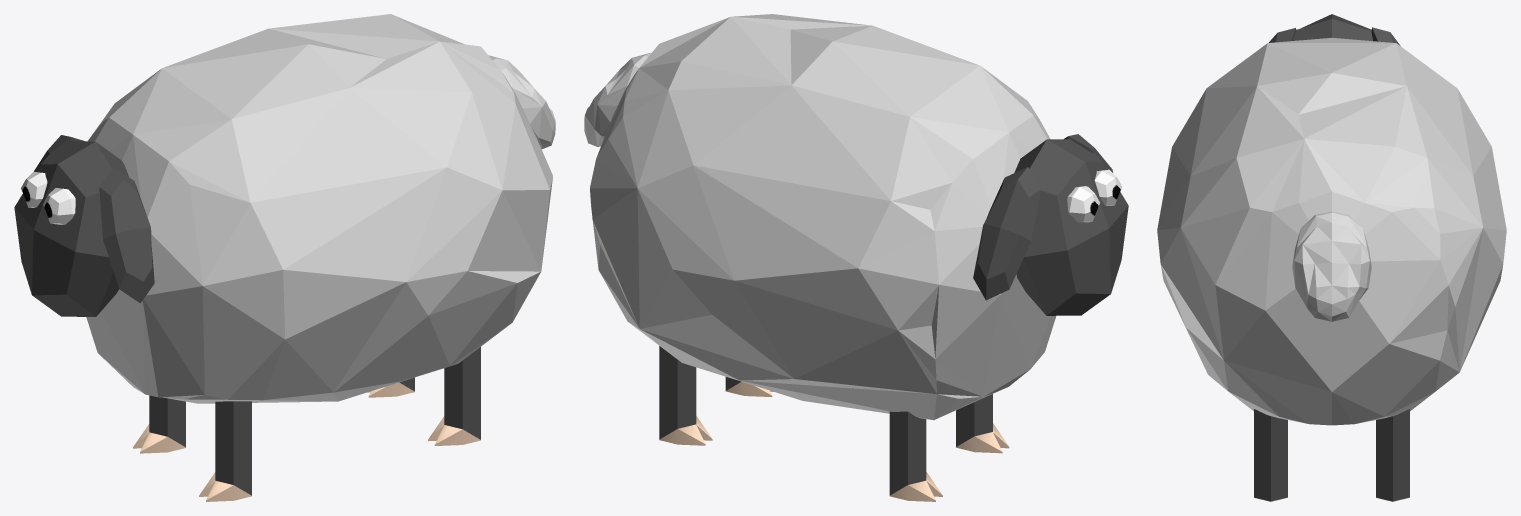
Rendered from sheep.glb.
3 views of the same model, side by side, from view 1: azimuth 30°, elevation 25°; view 2: azimuth 150°, elevation 25°; view 3: azimuth 270°, elevation 25° (orthographic). The views are drawn at different scales.
Parts seen in each view (by area): view 1: pCylinder12; view 2: pCylinder12; view 3: pCylinder12.
Boxes of the visible parts, x1,y1,x2,y2 form: pCylinder12: (14,14,555,501); pCylinder12: (584,14,1128,501); pCylinder12: (1157,14,1506,501).
Size of the model in its own units: 1.36 by 0.9949 by 0.8605.
4 materials, 1 textured.
